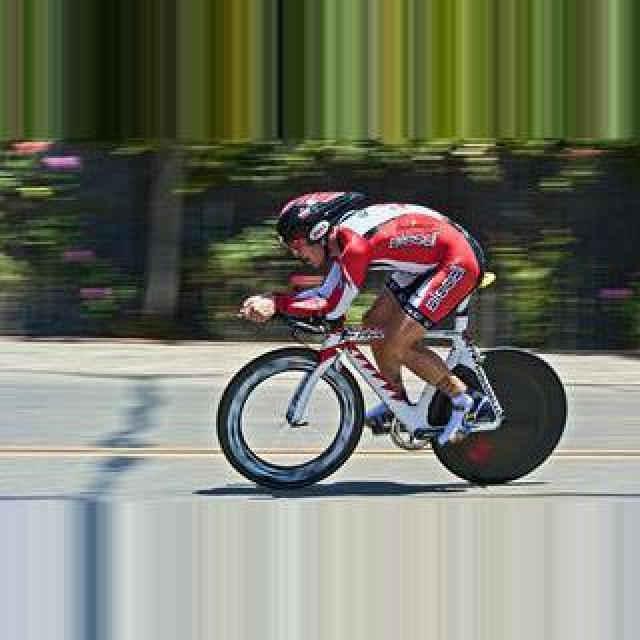MC-Bike: (236, 192, 502, 466)
Person: (220, 298, 566, 492)
